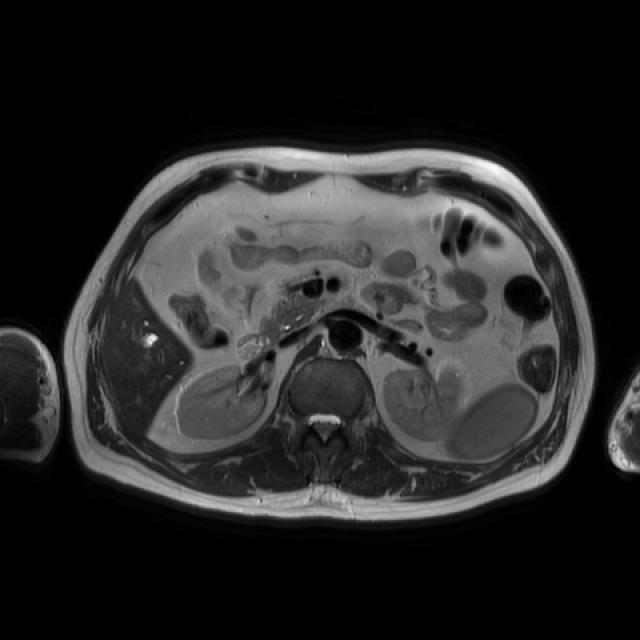sag: (176, 367, 267, 438)
sol: (386, 364, 465, 442)
